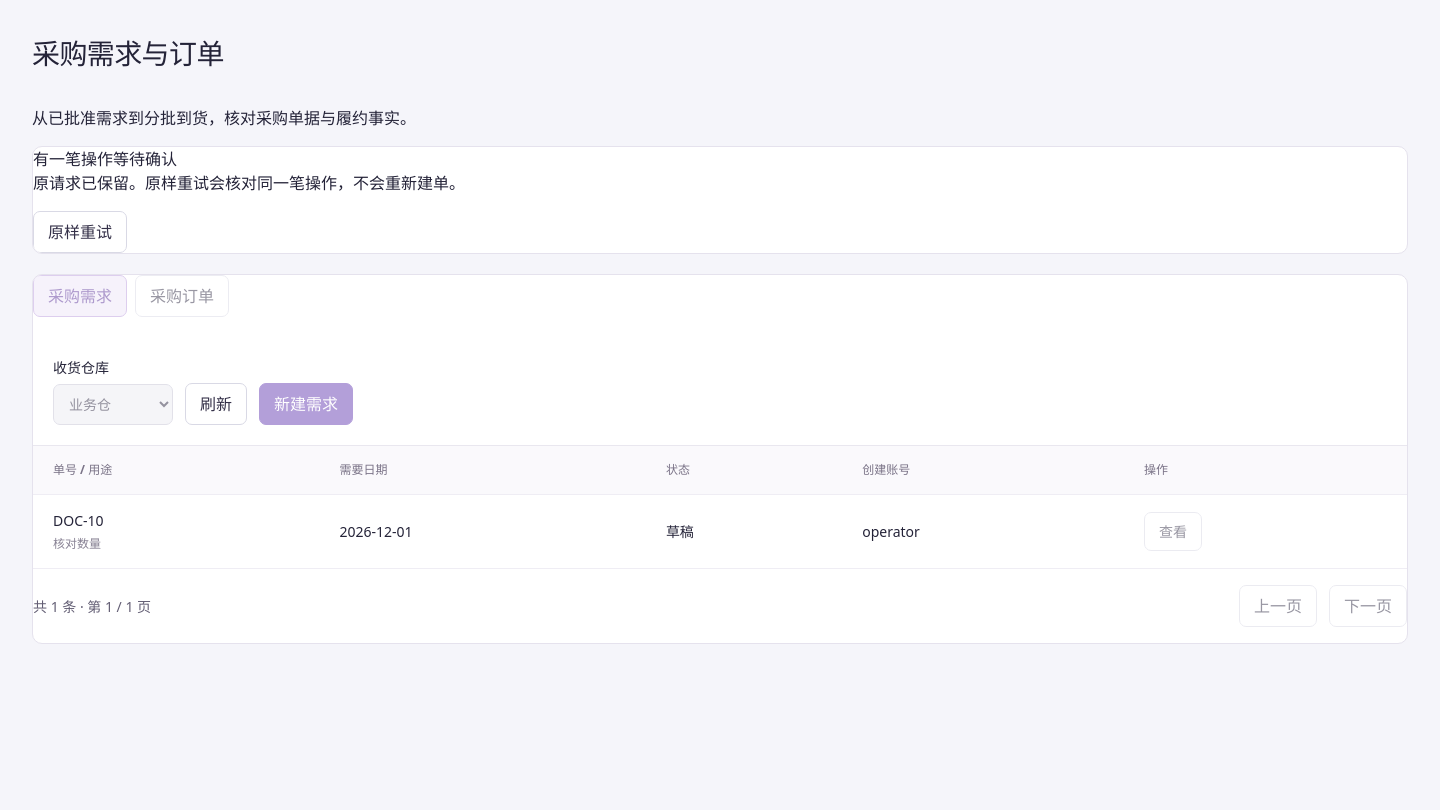
Scenario: purchasing document recovery › ignores an older list response after a retried write is rejected
What coordinates should you click on to do the following:
click the button "刷新"
I would click on:
 (216, 404)
Its box is [185, 383, 247, 425].
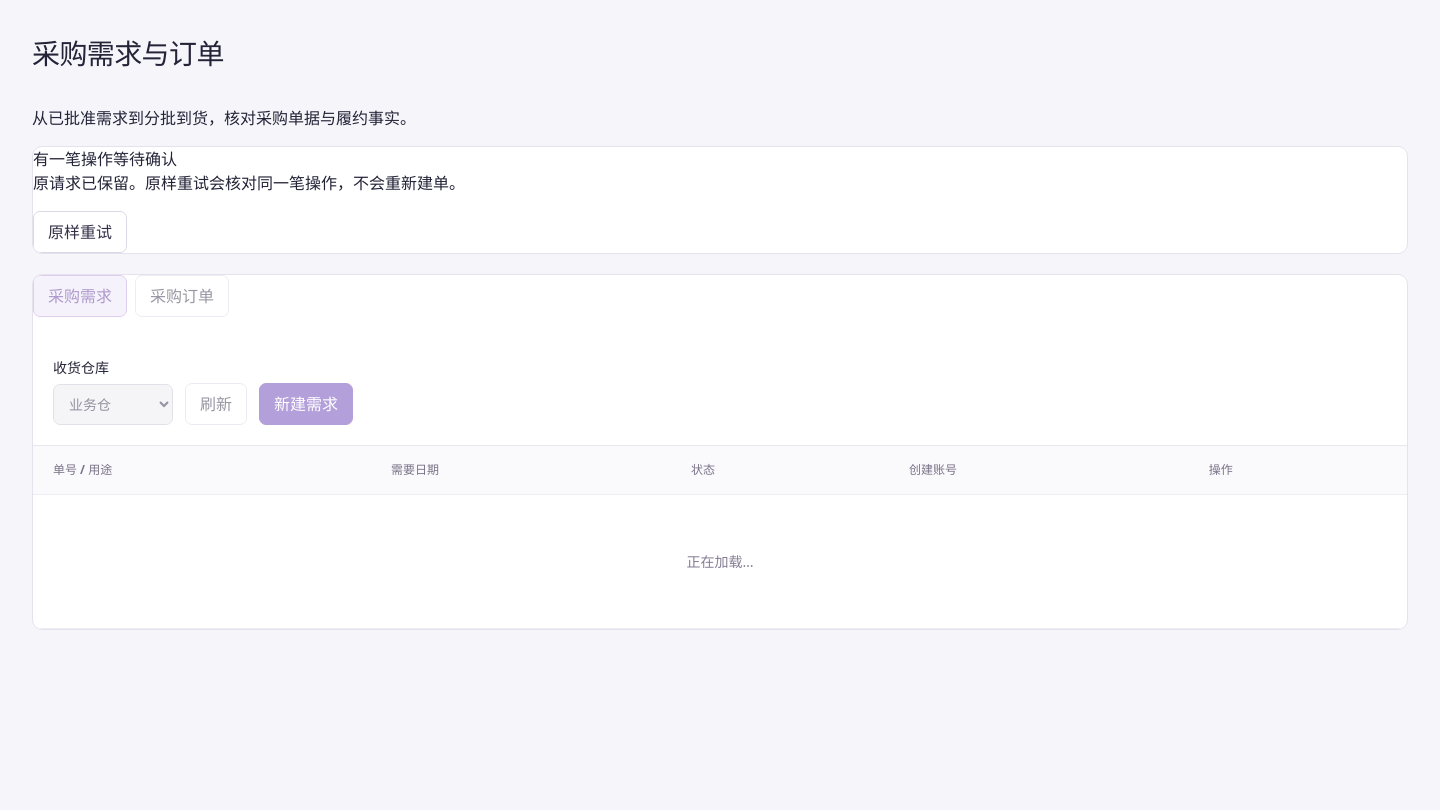
What coordinates should you click on to do the following:
click the button "原样重试"
I would click on:
 (80, 232)
Its box is [33, 211, 127, 253].
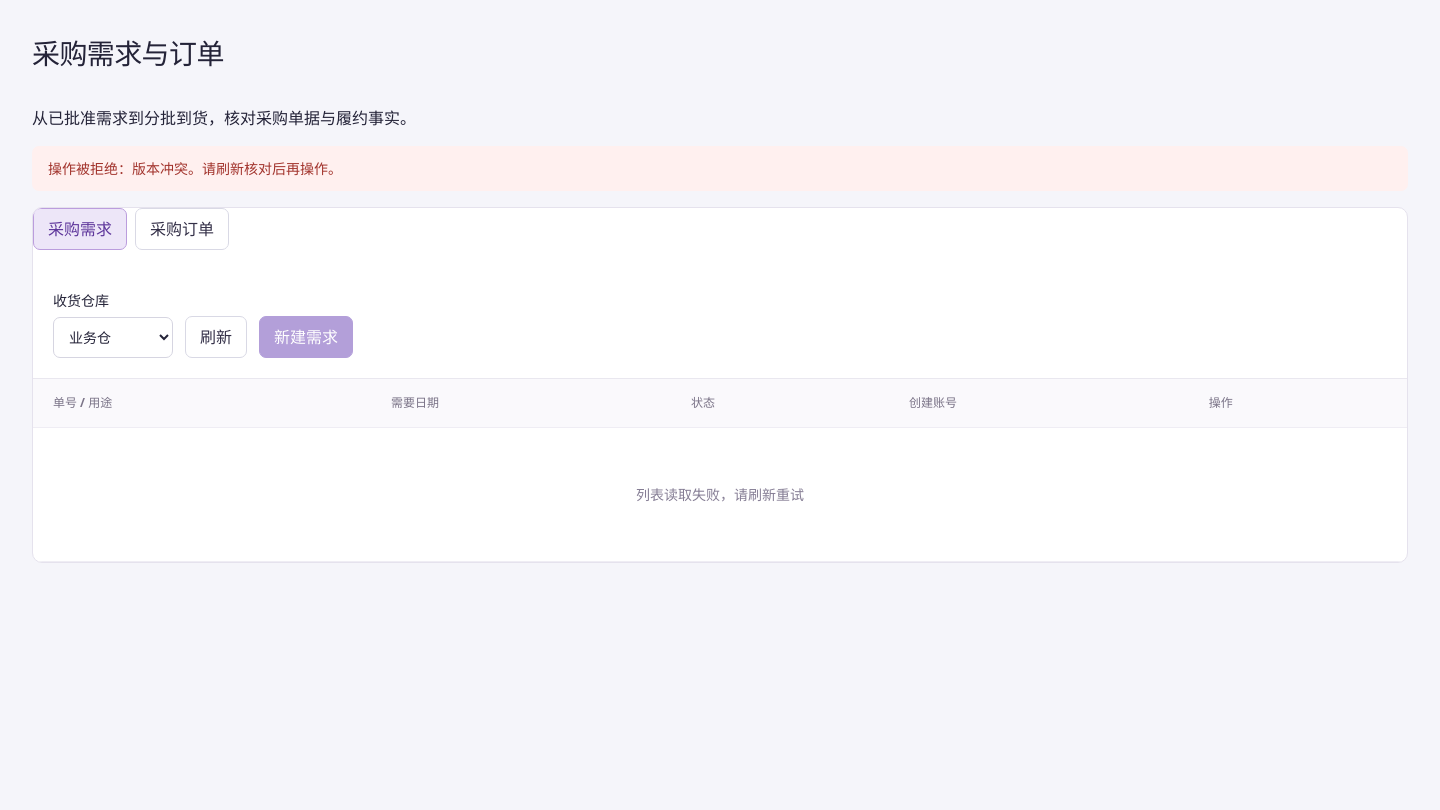
Check: the text "操作被拒绝" is shown, box [48, 159, 342, 178]
